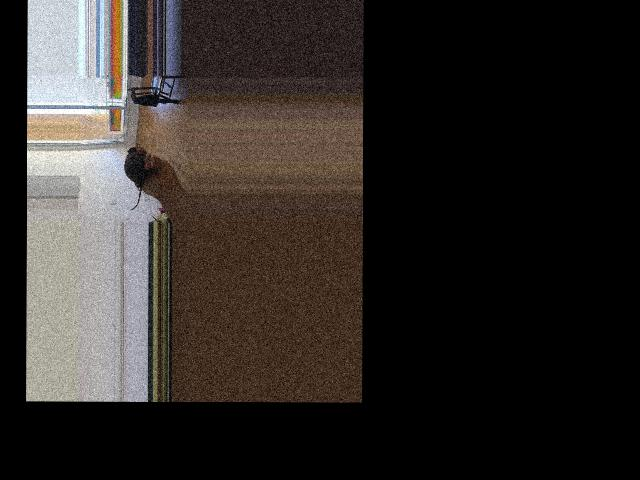beet: (124, 145, 146, 209)
